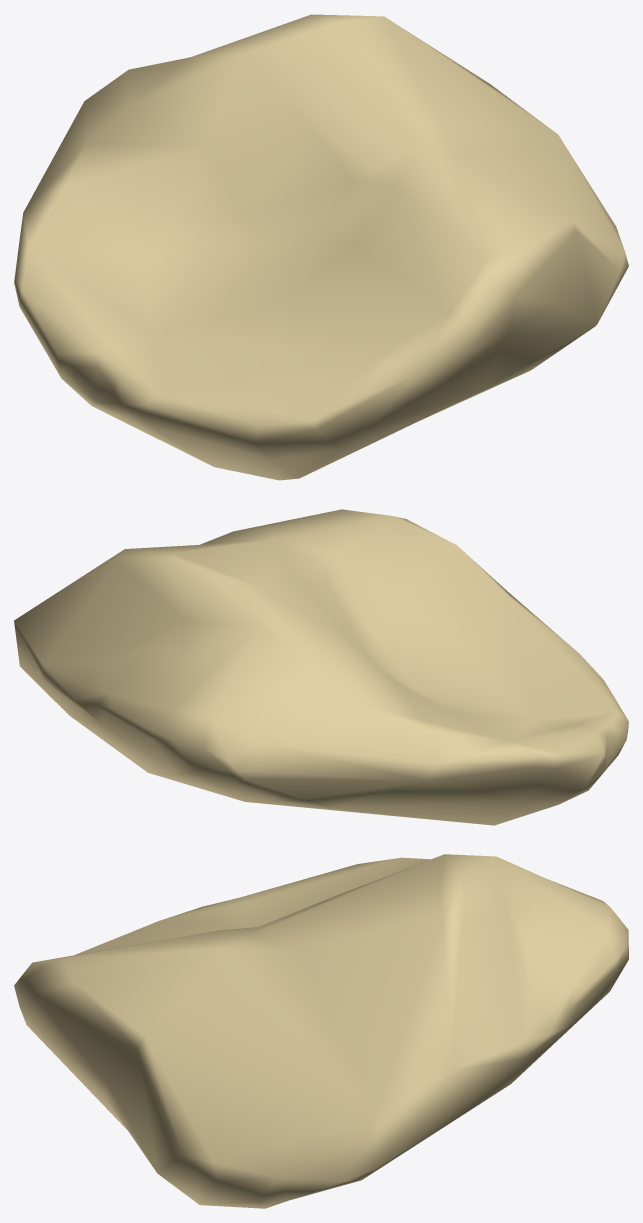
3 renders of one model, top to bottom at view 1: azimuth 30°, elevation 25°; view 2: azimuth 150°, elevation 25°; view 3: azimuth 270°, elevation 25°, orthographic. The views are drawn at different scales.
Visible parts, largest first — view 1: 右侧髌骨; view 2: 右侧髌骨; view 3: 右侧髌骨.
Part boxes in pixels (x1,y1,x2,y2): 右侧髌骨: [14, 14, 628, 480]; 右侧髌骨: [14, 509, 628, 825]; 右侧髌骨: [14, 854, 628, 1208].
Size of the model in its own units: 0.0636 by 0.0335 by 0.0603.
